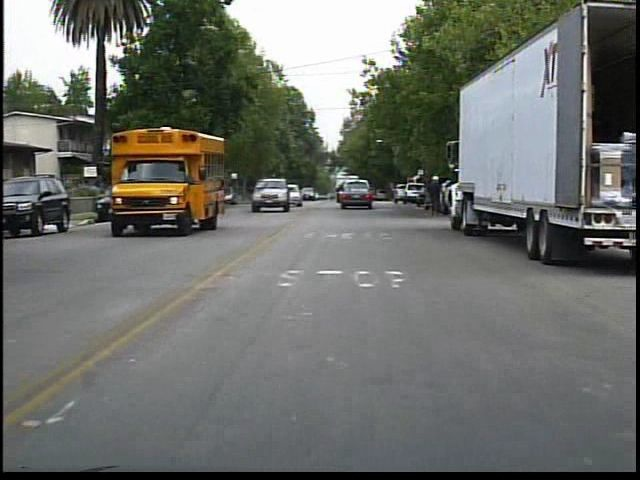person: (421, 172, 444, 219)
